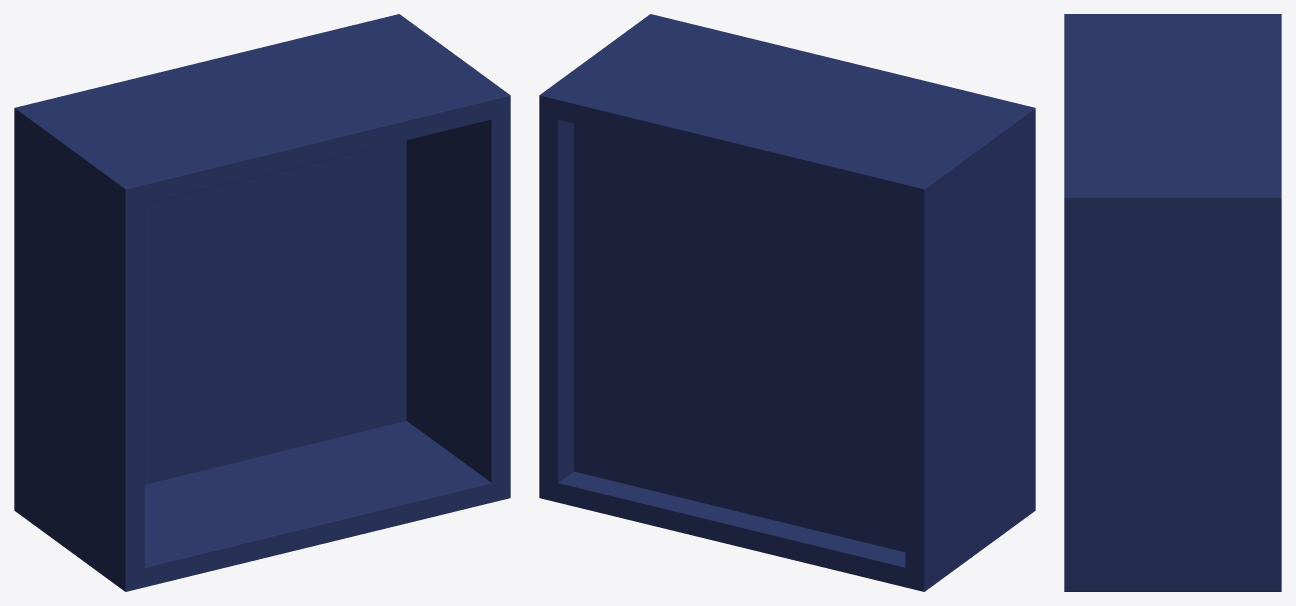
The model's file is MODH_1X1_A_B_AF.glb.
3 renders of one model, left to right at view 1: azimuth 30°, elevation 25°; view 2: azimuth 150°, elevation 25°; view 3: azimuth 270°, elevation 25°, orthographic. The views are drawn at different scales.
Size of the model in its own units: 360 by 360 by 180.
